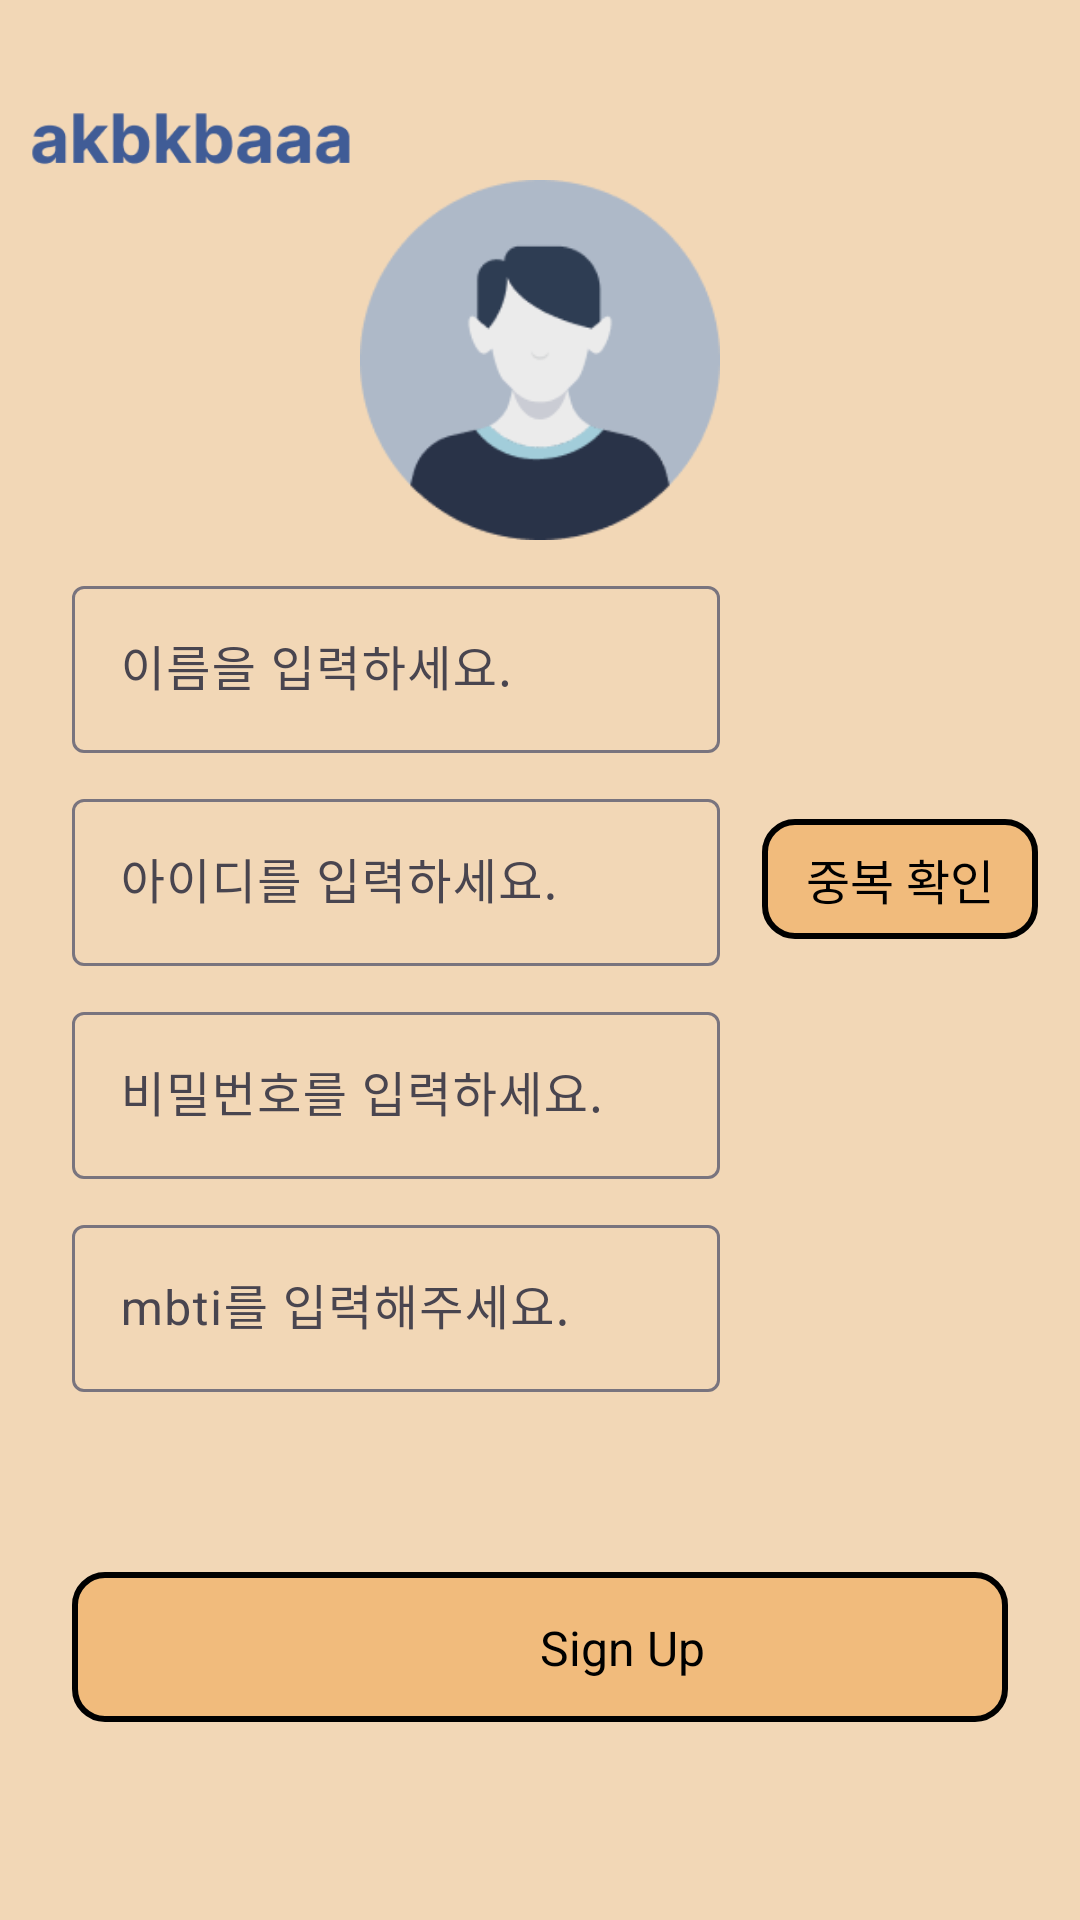

Named icons in this screenshot (1080w x 1920h) and their centers, (x,y):
empty profile: (540,360)
